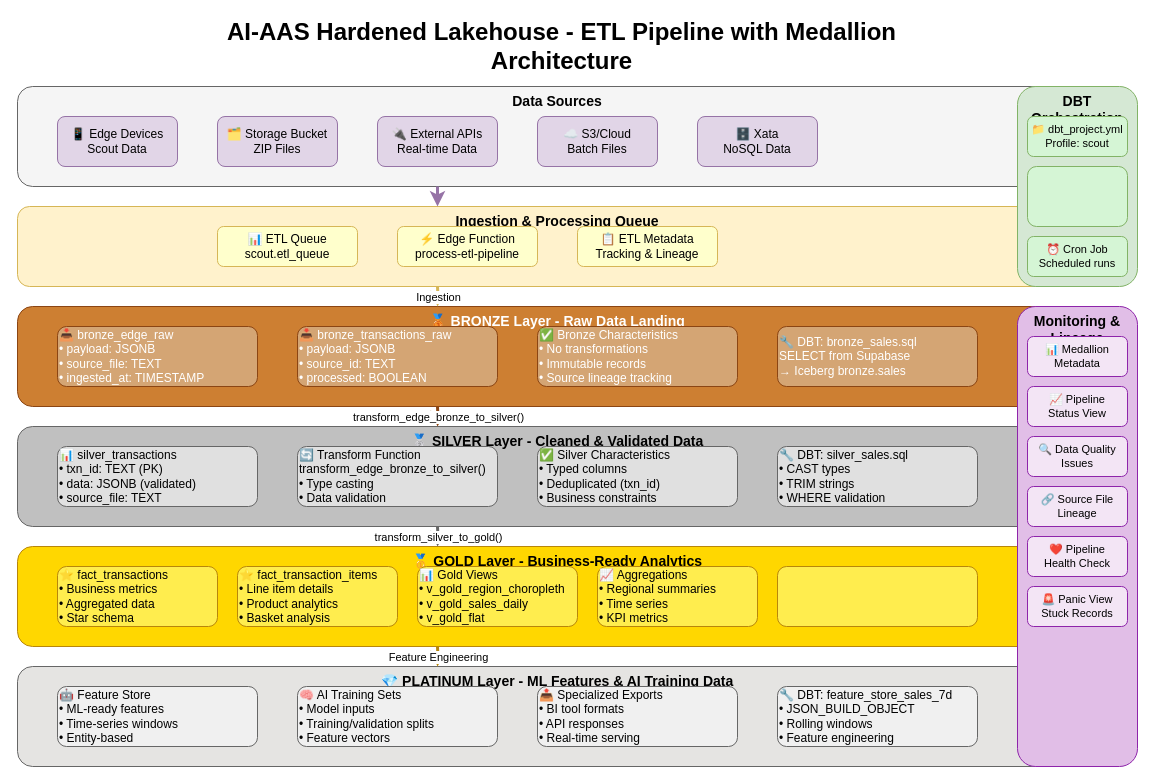
The diagram is 1155 pixels wide and 784 high, and some of its shapes have lost their labels. Each missing label, with the centre of its shape:
📂 Models /bronze /silver /gold /platinum: pixel 1077 196
🔧 DBT: gold_sales_daily.sql • DATE_TRUNC • GROUP BY region • SUM aggregations: pixel 877 596
